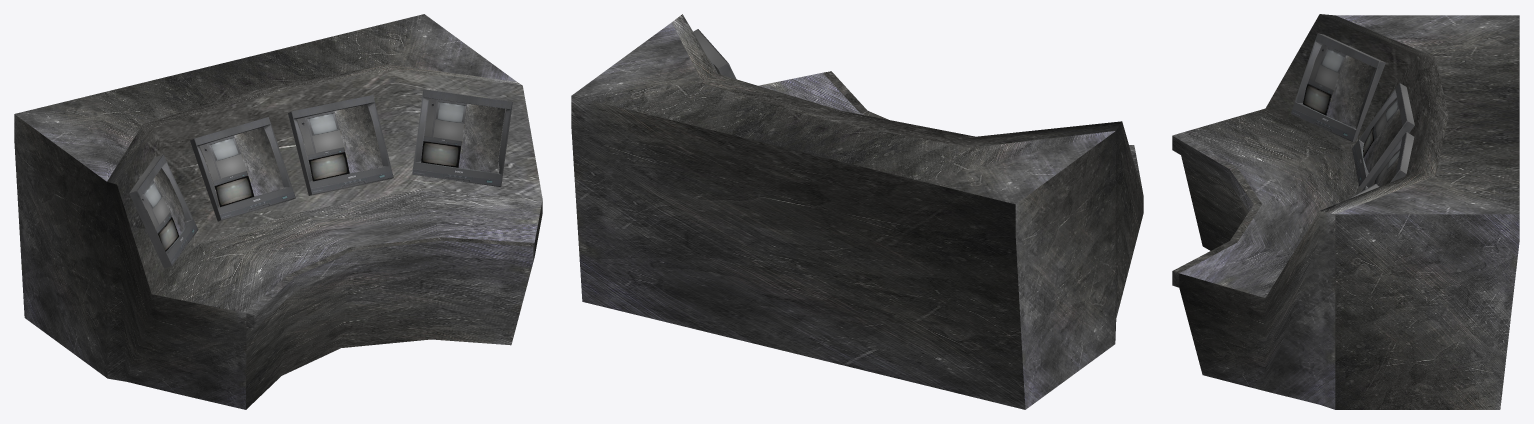
The model's file is mod_cctv_table.fbx.
3 views of the same model, side by side, from view 1: azimuth 30°, elevation 25°; view 2: azimuth 150°, elevation 25°; view 3: azimuth 270°, elevation 25° (orthographic). The views are drawn at different scales.
Visible parts, largest first — view 1: pCube3, polySurface6; view 2: pCube3; view 3: pCube3, polySurface6.
Boxes of the visible parts, bbox=[...] form: pCube3: bbox=[14, 14, 542, 409]; polySurface6: bbox=[140, 98, 505, 251]; pCube3: bbox=[571, 14, 1143, 409]; pCube3: bbox=[1172, 14, 1519, 409]; polySurface6: bbox=[1303, 44, 1402, 186].
Bounding box in the file's own units: 36.17 × 16.81 × 26.7.
1 material, 1 textured.
